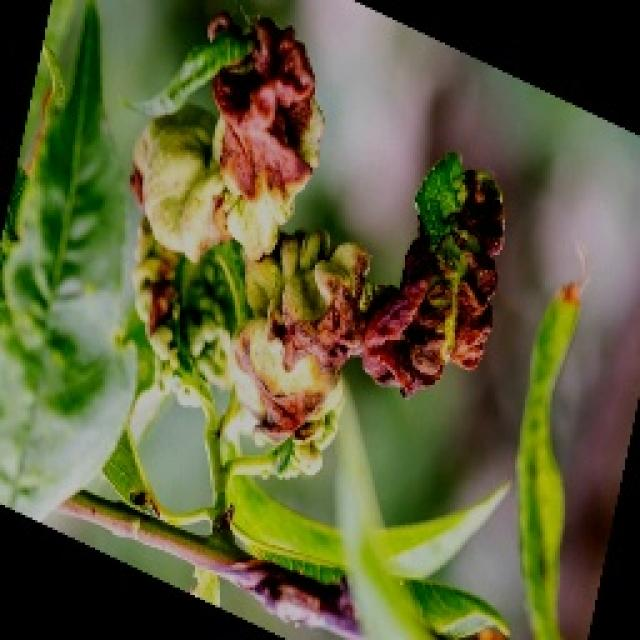peach_leaf_curl: (122, 8, 508, 482)
